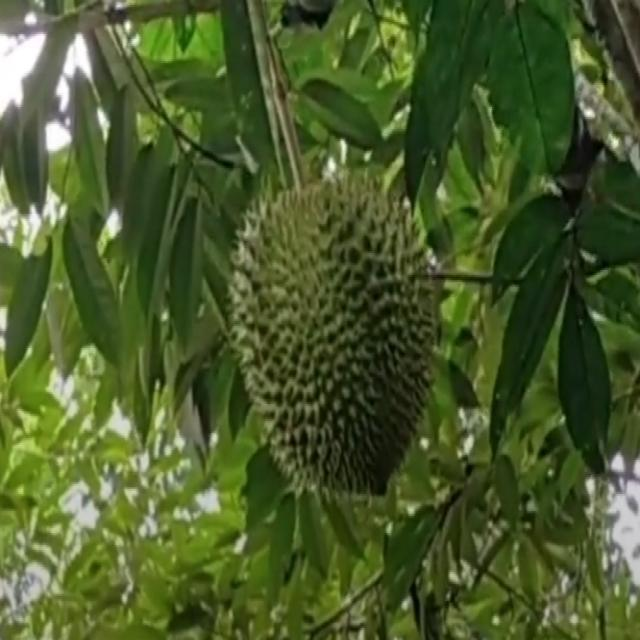immature: (232, 180, 436, 494)
